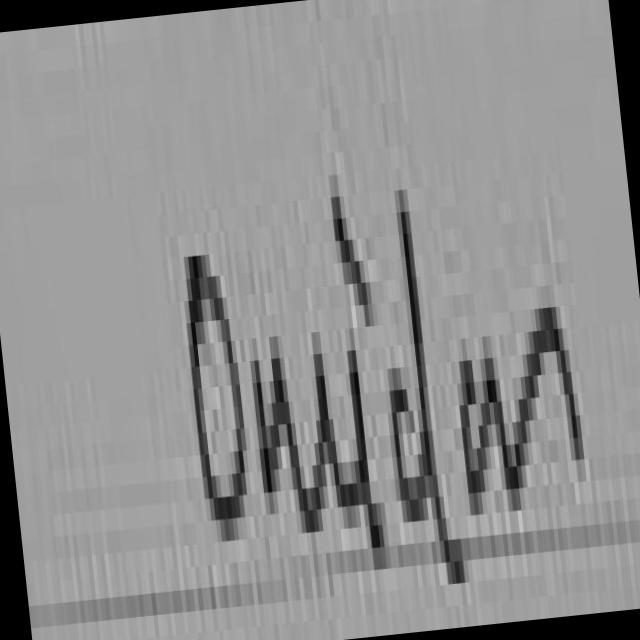O: (189, 255, 247, 540)
d: (395, 211, 468, 583)
i: (353, 350, 385, 558), (336, 196, 373, 326)
m: (255, 353, 358, 532)
n: (490, 307, 587, 510)
o: (462, 358, 494, 504)
